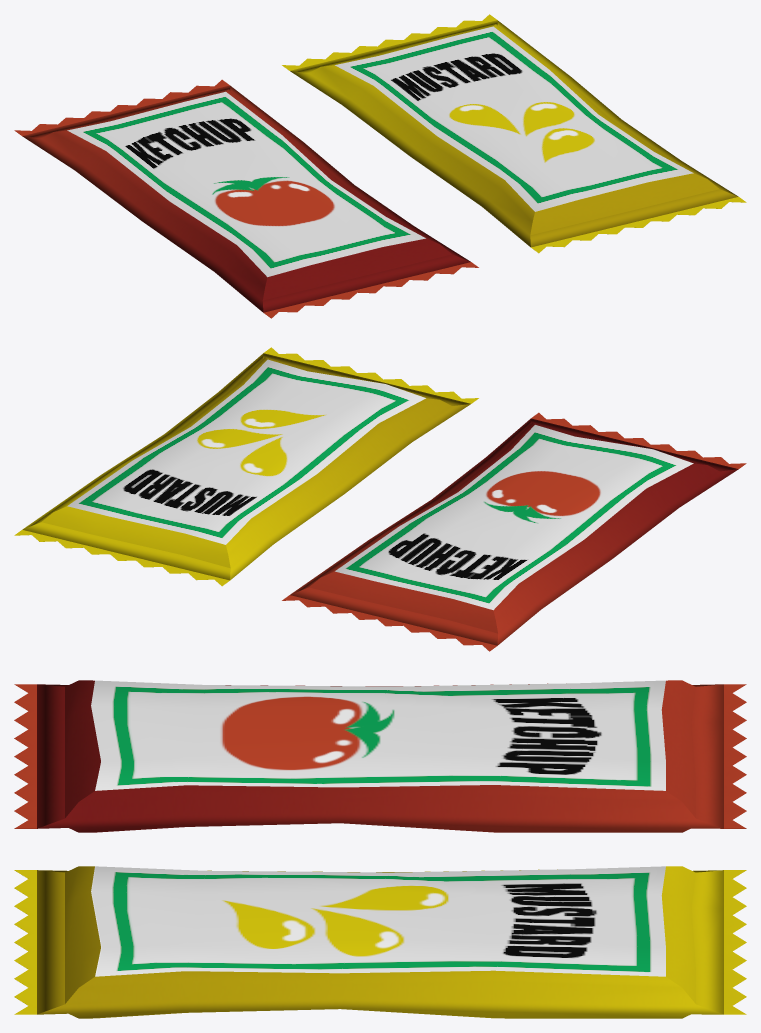
File: Ketchup _ Mustard Packs_V1.FBX
The picture shows the model from 3 angles, top to bottom: view 1: azimuth 30°, elevation 25°; view 2: azimuth 150°, elevation 25°; view 3: azimuth 270°, elevation 25°; orthographic projection. The views are drawn at different scales.
Visible parts, largest first — view 1: Packet; view 2: Packet; view 3: Packet.
Part boxes in pixels (bbox=[...]): Packet: bbox=[14, 14, 746, 318]; Packet: bbox=[14, 347, 746, 651]; Packet: bbox=[14, 680, 746, 1018].
Size of the model in its own units: 87.51 by 6.81 by 82.04.
Materials: 1 (1 with a texture image).
